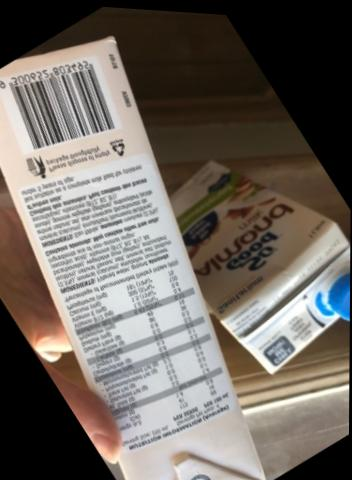cardboard: (0, 4, 352, 480), (139, 106, 351, 394)
